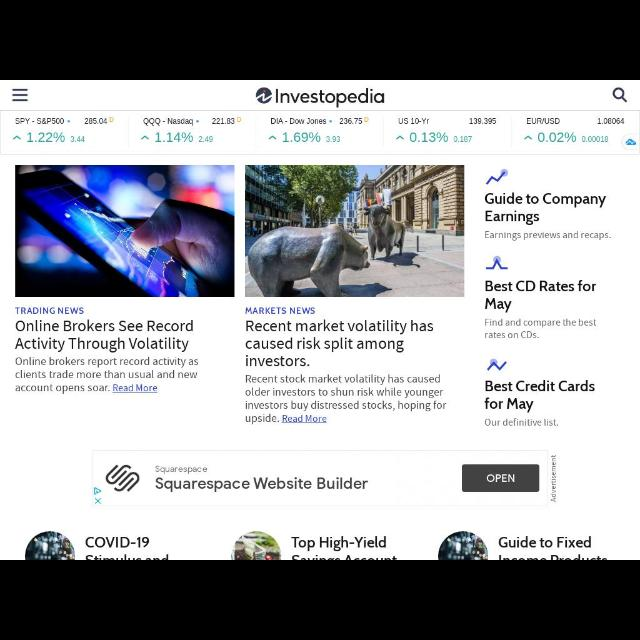icon: (612, 87, 628, 103), (12, 88, 30, 102)
iframe: (92, 449, 548, 506)
image: (243, 164, 464, 296), (16, 166, 234, 298), (256, 89, 384, 108), (438, 532, 489, 560), (27, 531, 75, 559), (232, 532, 280, 558), (486, 256, 508, 270), (487, 170, 508, 184), (622, 134, 640, 150)
link: (112, 384, 158, 394)
text: (246, 307, 447, 425), (14, 306, 200, 394), (485, 280, 597, 338), (485, 193, 611, 240), (484, 381, 596, 427), (140, 116, 242, 142), (13, 117, 113, 143), (397, 118, 497, 144), (524, 116, 624, 142), (499, 537, 611, 559), (268, 118, 370, 142), (292, 537, 400, 559), (85, 536, 172, 560), (282, 414, 328, 424), (487, 359, 507, 371)
toolbar: (1, 81, 639, 109)
